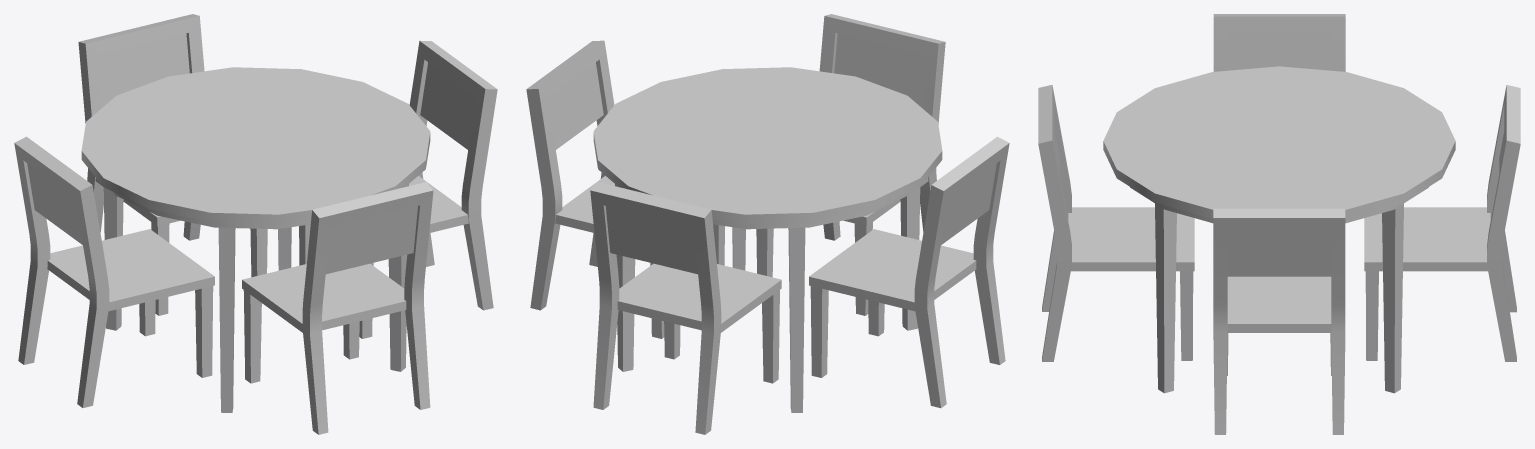
The model's file is TeaTable_01.fbx.
3 renders of one model, left to right at view 1: azimuth 30°, elevation 25°; view 2: azimuth 150°, elevation 25°; view 3: azimuth 270°, elevation 25°, orthographic.
Visible parts, largest first — view 1: TeaTable_01, TeaChair_03, TeaChair_04, TeaChair_02, TeaChair_01; view 2: TeaTable_01, TeaChair_01, TeaChair_04, TeaChair_02, TeaChair_03; view 3: TeaTable_01, TeaChair_02, TeaChair_01, TeaChair_03, TeaChair_04.
Boxes of the visible parts, <box> form: TeaTable_01: <box>81,67,430,412</box>; TeaChair_03: <box>242,182,433,434</box>; TeaChair_04: <box>14,136,214,407</box>; TeaChair_02: <box>299,40,497,338</box>; TeaChair_01: <box>78,14,267,315</box>; TeaTable_01: <box>593,67,942,412</box>; TeaChair_01: <box>590,182,781,434</box>; TeaChair_04: <box>809,136,1009,408</box>; TeaChair_02: <box>526,40,724,338</box>; TeaChair_03: <box>756,14,945,315</box>; TeaTable_01: <box>1103,66,1455,393</box>; TeaChair_02: <box>1213,208,1345,434</box>; TeaChair_01: <box>1364,85,1520,361</box>; TeaChair_03: <box>1038,85,1194,361</box>; TeaChair_04: <box>1213,14,1345,71</box>.
Size of the model in its own units: 1.32 by 0.7106 by 1.32.
